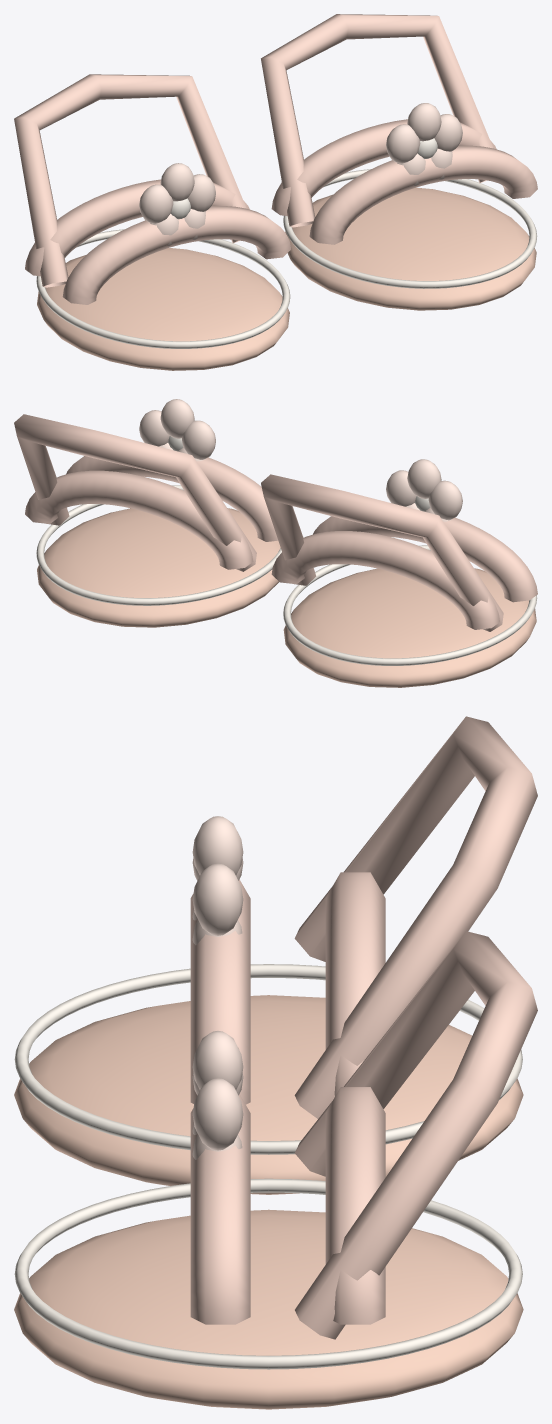
File: sandals_summer_penguin_tailored.glb
The picture shows the model from 3 angles, top to bottom: view 1: azimuth 30°, elevation 25°; view 2: azimuth 150°, elevation 25°; view 3: azimuth 270°, elevation 25°; orthographic projection. The views are drawn at different scales.
Visible parts, largest first — view 1: Calzado · Right · Suela.004, Calzado · Left · Suela.004, Calzado · Right · Talón, Calzado · Left · Talón, Calzado · Left · Correa redondeada, Calzado · Right · Correa redondeada, Calzado · Right · Correa redondeada.001, Calzado · Left · Correa redondeada.001, Calzado · Left · Ribete de suela.004, Calzado · Right · Ribete de suela.004, Calzado · Right · Pétalo.004, Calzado · Left · Pétalo.004 (+4 smaller); view 2: Calzado · Right · Suela.004, Calzado · Left · Suela.004, Calzado · Left · Talón, Calzado · Right · Talón, Calzado · Right · Correa redondeada.001, Calzado · Left · Correa redondeada.001, Calzado · Right · Correa redondeada, Calzado · Left · Correa redondeada, Calzado · Right · Ribete de suela.004, Calzado · Left · Ribete de suela.004, Calzado · Left · Pétalo.004, Calzado · Right · Pétalo.004 (+4 smaller); view 3: Calzado · Left · Suela.004, Calzado · Right · Suela.004, Calzado · Left · Talón, Calzado · Right · Talón, Calzado · Left · Ribete de suela.004, Calzado · Left · Correa redondeada, Calzado · Left · Correa redondeada.001, Calzado · Right · Ribete de suela.004, Calzado · Right · Correa redondeada.001, Calzado · Right · Correa redondeada, Calzado · Right · Pétalo.001, Calzado · Left · Pétalo.001 (+2 smaller).
Boxes of the visible parts, box(x1,y1,x2,y2) form: Calzado · Right · Suela.004: box(37, 248, 289, 370); Calzado · Left · Suela.004: box(285, 187, 536, 310); Calzado · Right · Talón: box(14, 74, 246, 287); Calzado · Left · Talón: box(261, 14, 492, 227); Calzado · Left · Correa redondeada: box(309, 145, 537, 244); Calzado · Right · Correa redondeada: box(62, 206, 290, 304); Calzado · Right · Correa redondeada.001: box(25, 179, 249, 276); Calzado · Left · Correa redondeada.001: box(271, 119, 496, 215); Calzado · Left · Ribete de suela.004: box(283, 169, 537, 288); Calzado · Right · Ribete de suela.004: box(36, 229, 290, 348); Calzado · Right · Pétalo.004: box(139, 184, 173, 223); Calzado · Left · Pétalo.004: box(386, 124, 420, 163); Calzado · Right · Suela.004: box(283, 568, 536, 687); Calzado · Left · Suela.004: box(37, 508, 280, 627); Calzado · Left · Talón: box(14, 414, 256, 571); Calzado · Right · Talón: box(261, 474, 503, 631); Calzado · Right · Correa redondeada.001: box(271, 531, 499, 629); Calzado · Left · Correa redondeada.001: box(25, 470, 253, 569); Calzado · Right · Correa redondeada: box(313, 516, 537, 602); Calzado · Left · Correa redondeada: box(66, 456, 278, 541); Calzado · Right · Ribete de suela.004: box(283, 545, 537, 665); Calzado · Left · Ribete de suela.004: box(36, 485, 281, 605); Calzado · Left · Pétalo.004: box(182, 420, 215, 459); Calzado · Right · Pétalo.004: box(428, 480, 462, 520); Calzado · Left · Suela.004: box(14, 1209, 523, 1409); Calzado · Right · Suela.004: box(14, 995, 523, 1194); Calzado · Left · Talón: box(295, 931, 537, 1339); Calzado · Right · Talón: box(294, 716, 537, 1118); Calzado · Left · Ribete de suela.004: box(14, 1178, 522, 1369); Calzado · Left · Correa redondeada: box(190, 1094, 250, 1324); Calzado · Left · Correa redondeada.001: box(325, 1087, 385, 1324); Calzado · Right · Ribete de suela.004: box(14, 964, 522, 1154); Calzado · Right · Correa redondeada.001: box(325, 872, 385, 1096); Calzado · Right · Correa redondeada: box(190, 879, 250, 1104); Calzado · Right · Pétalo.001: box(192, 863, 243, 935); Calzado · Left · Pétalo.001: box(192, 1078, 243, 1150).
Bounding box in the file's own units: 0.4162 × 0.1767 × 0.2269.
